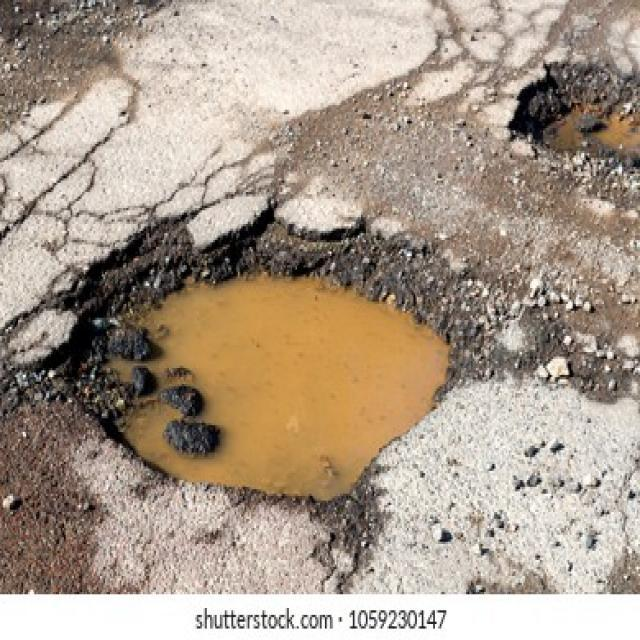Pothole: (52, 217, 466, 508), (505, 59, 640, 164)
